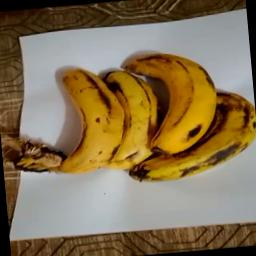Banana Unripe: (122, 43, 223, 160), (38, 62, 122, 176), (94, 54, 164, 176), (119, 124, 256, 183)
